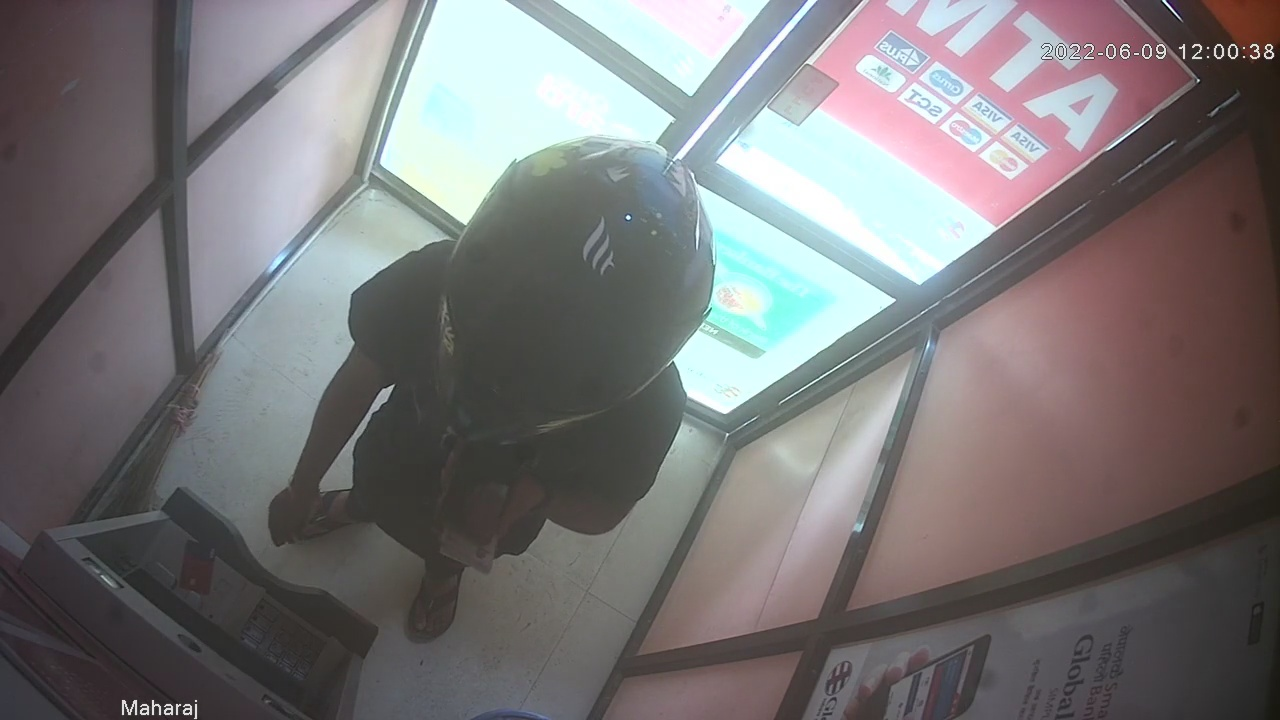helmet: (434, 136, 713, 446)
person: (267, 134, 715, 646)
